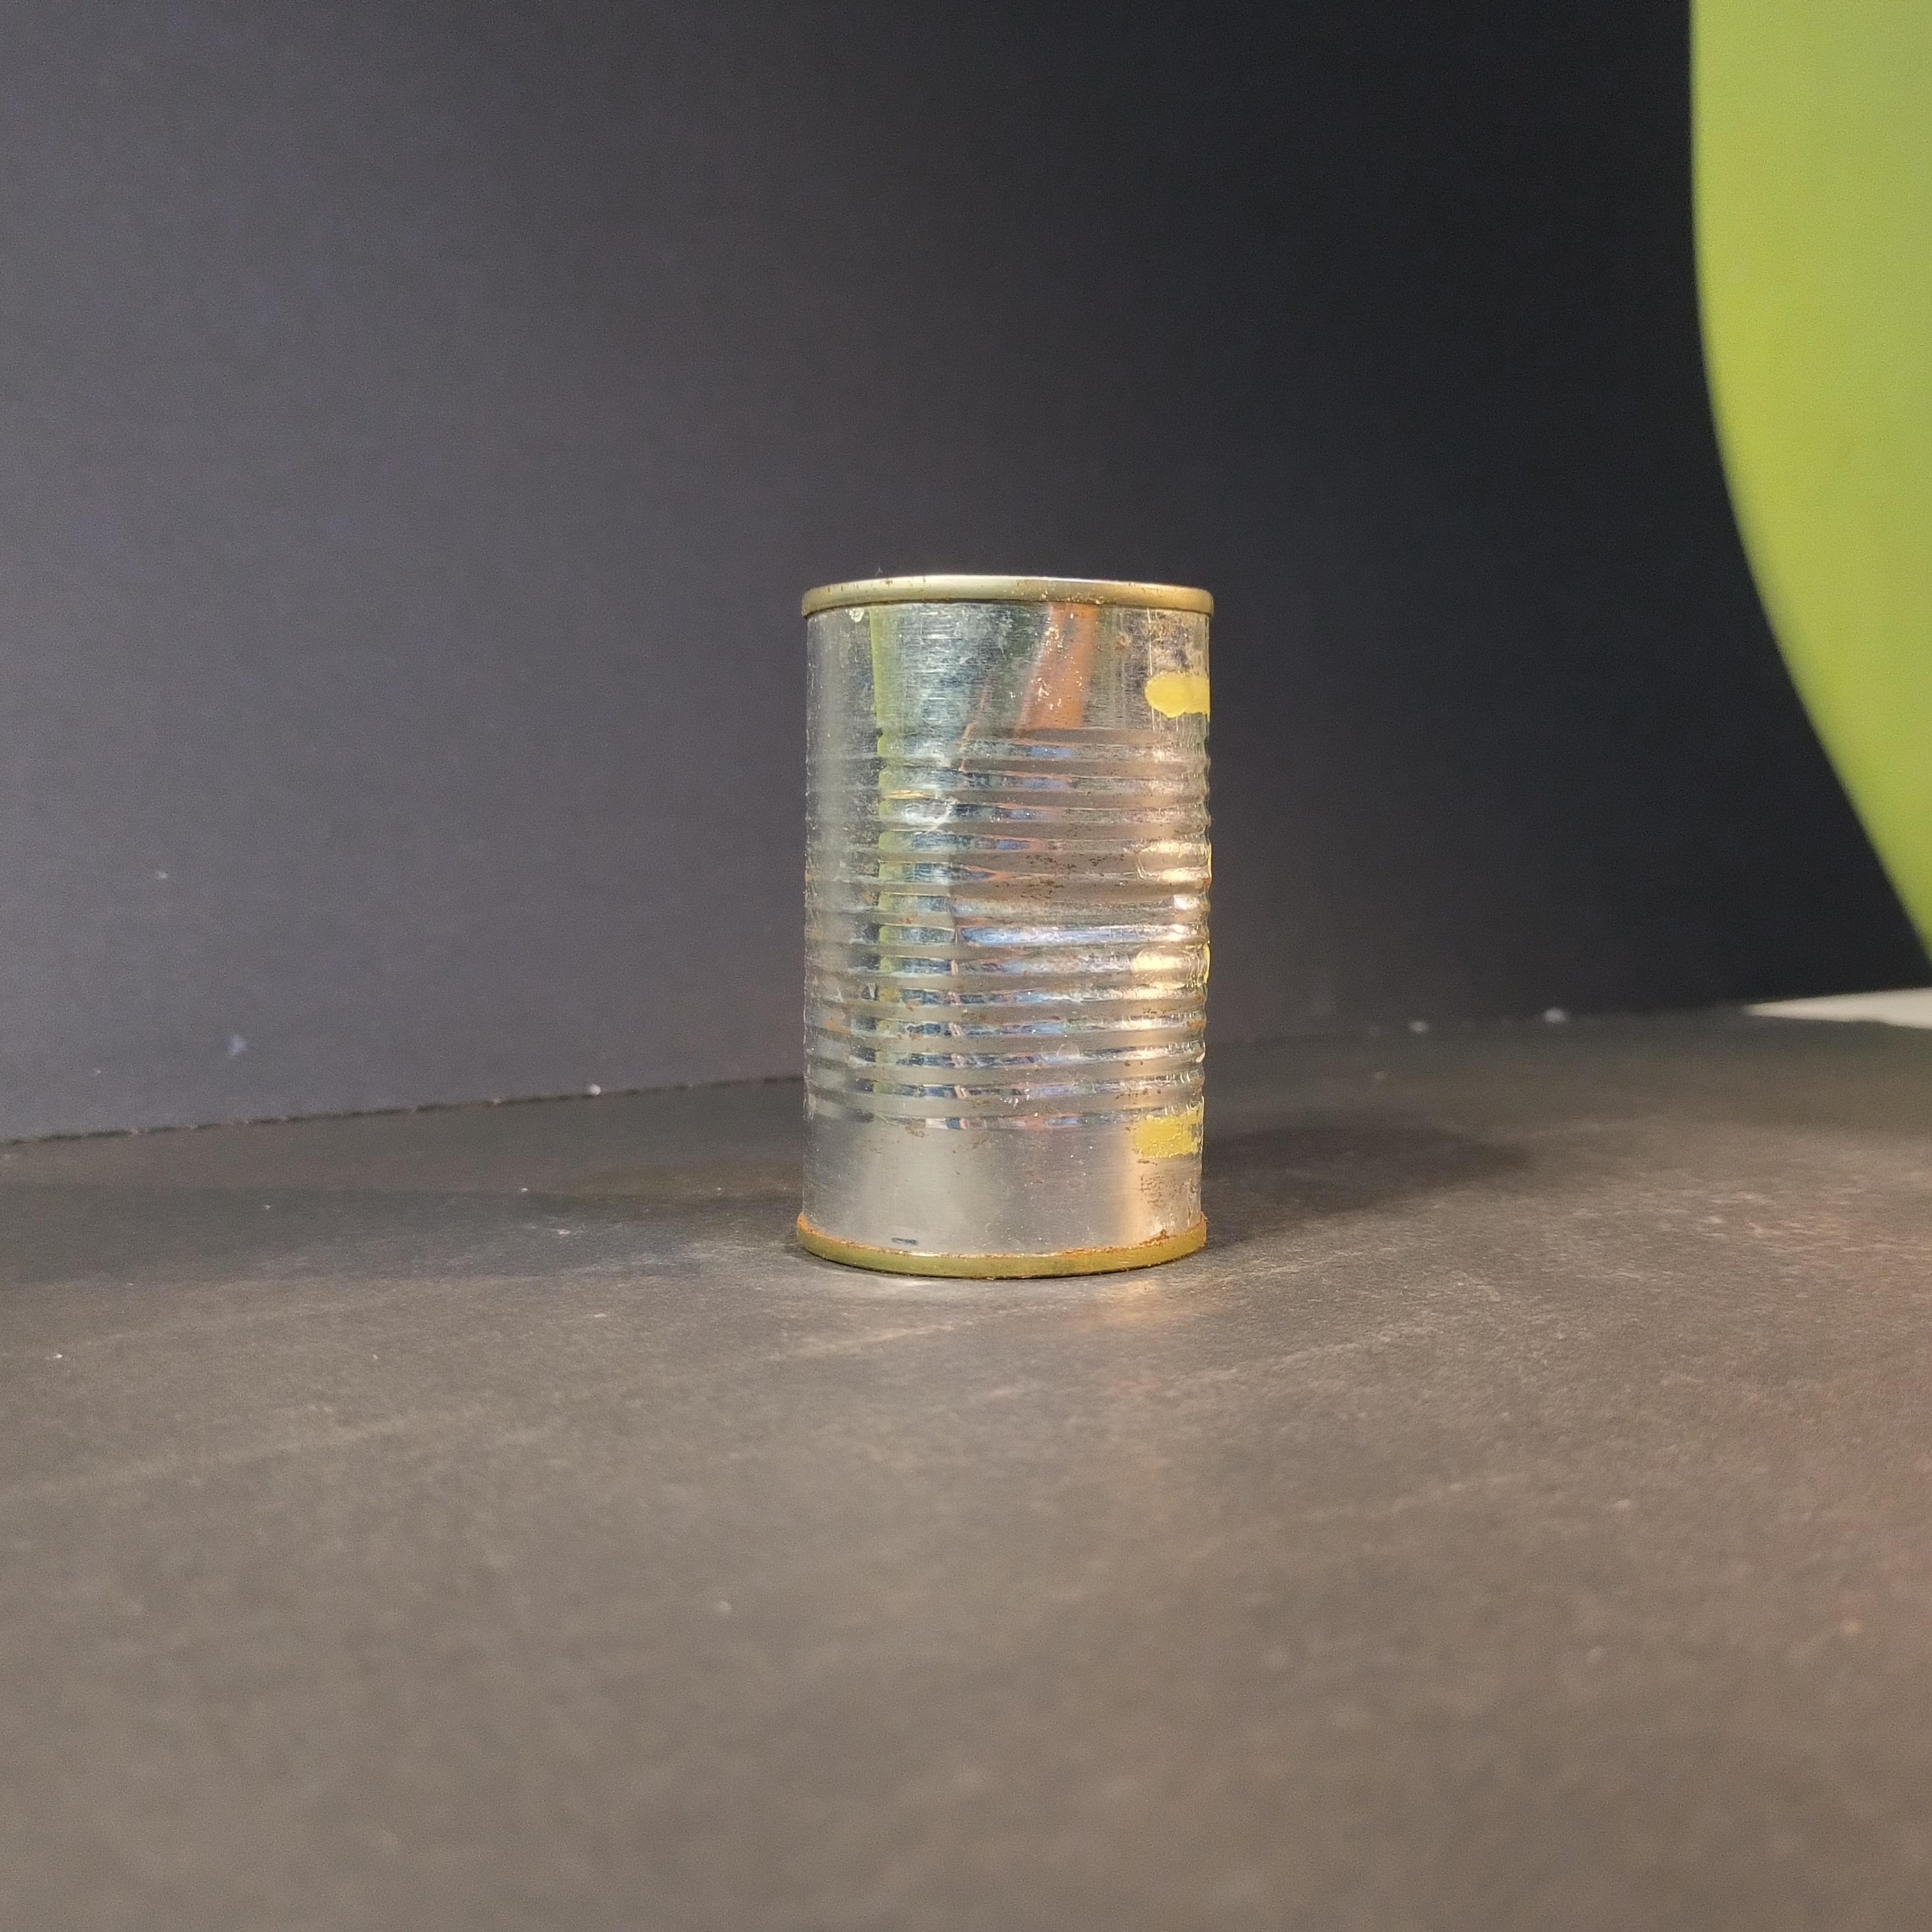Dented: (791, 531, 1224, 1313)
